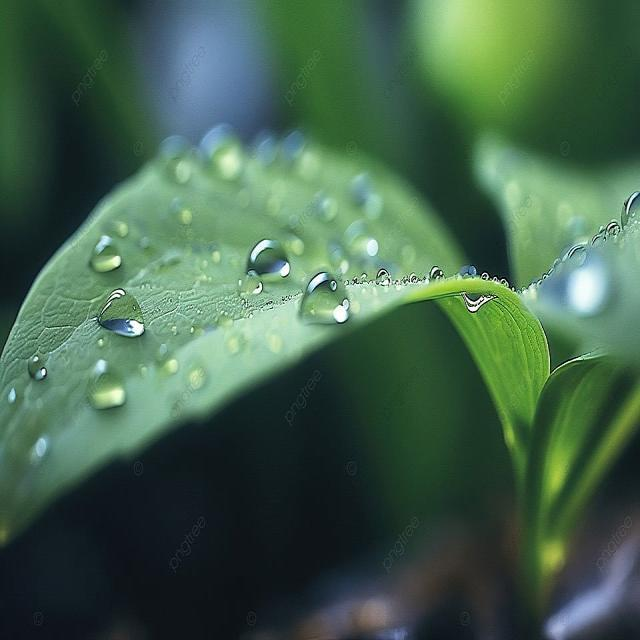raindrop: (293, 256, 363, 336), (95, 277, 154, 359), (79, 348, 134, 432), (238, 215, 296, 292), (86, 226, 130, 288)
